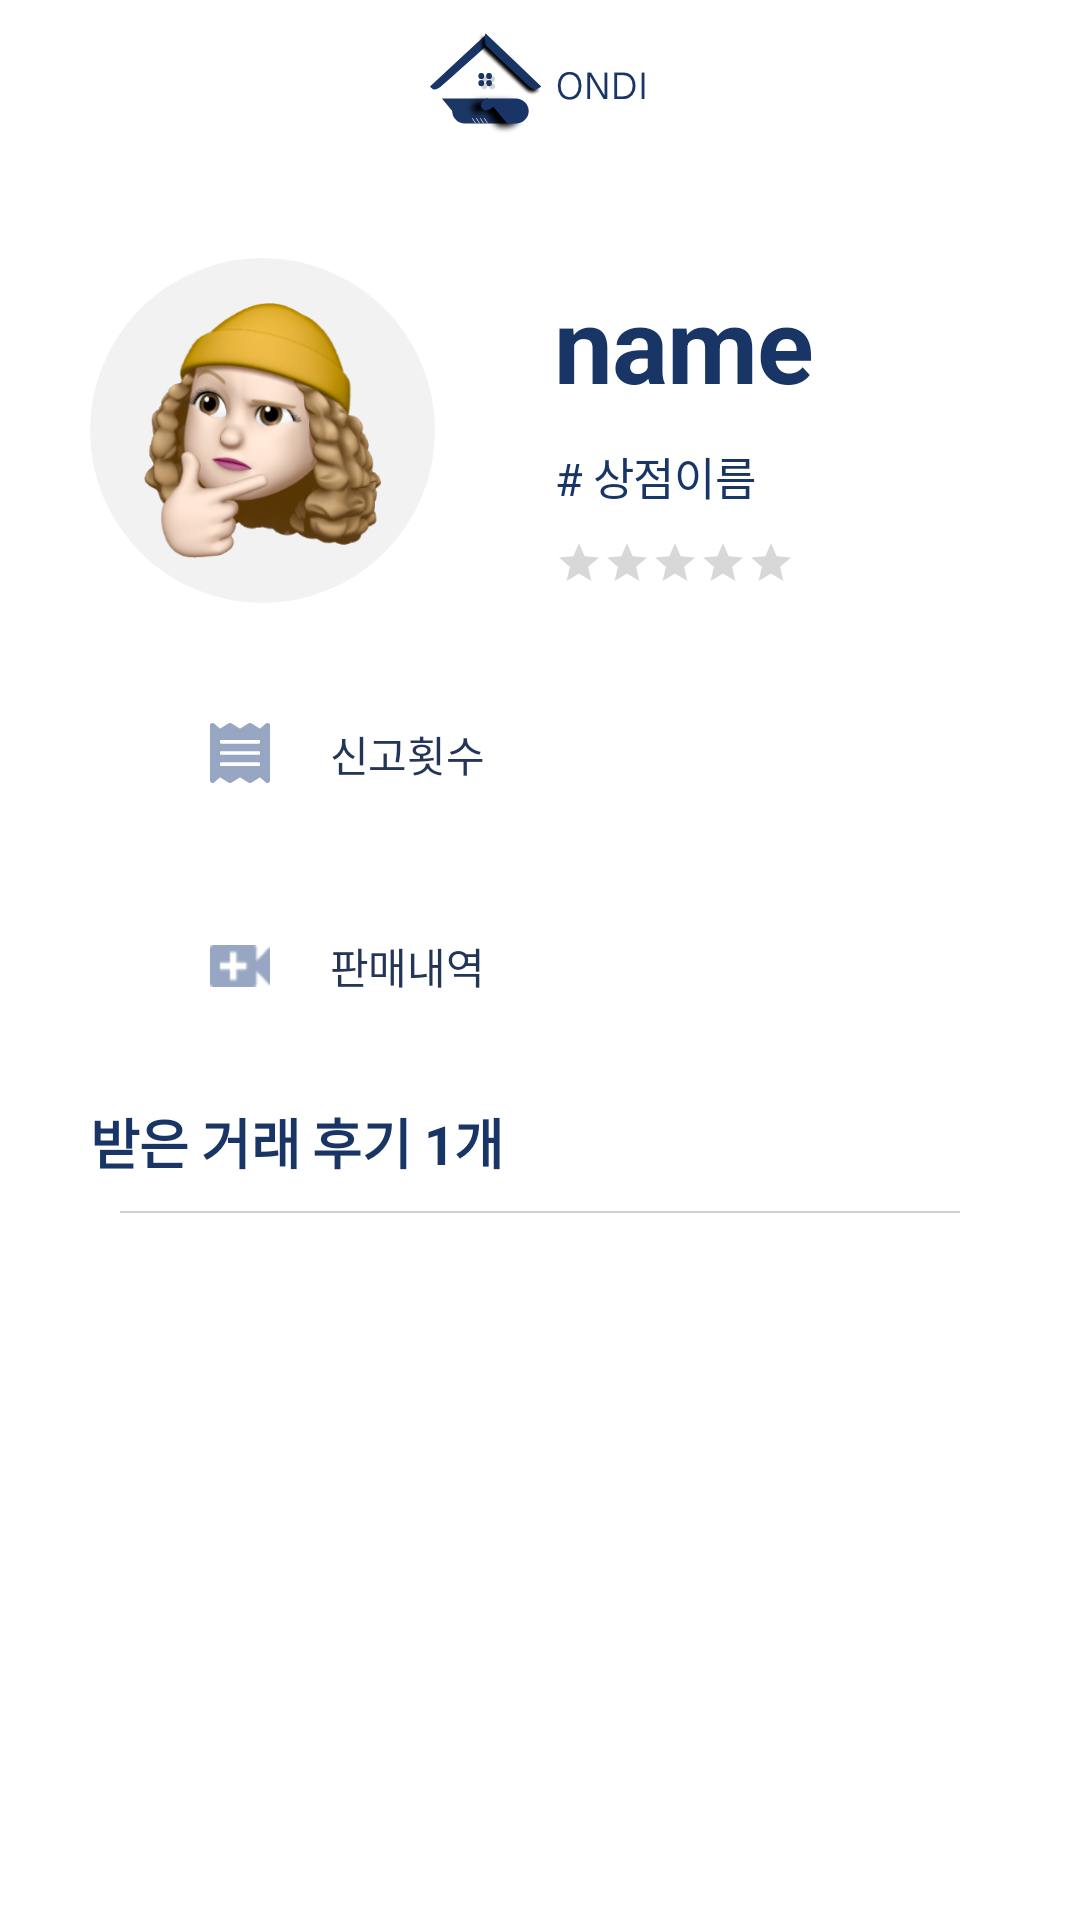

Named icons in this screenshot (1080 × 1920) and their centers, (x,y):
awesome receipt: (240,753)
video call: (240,966)
